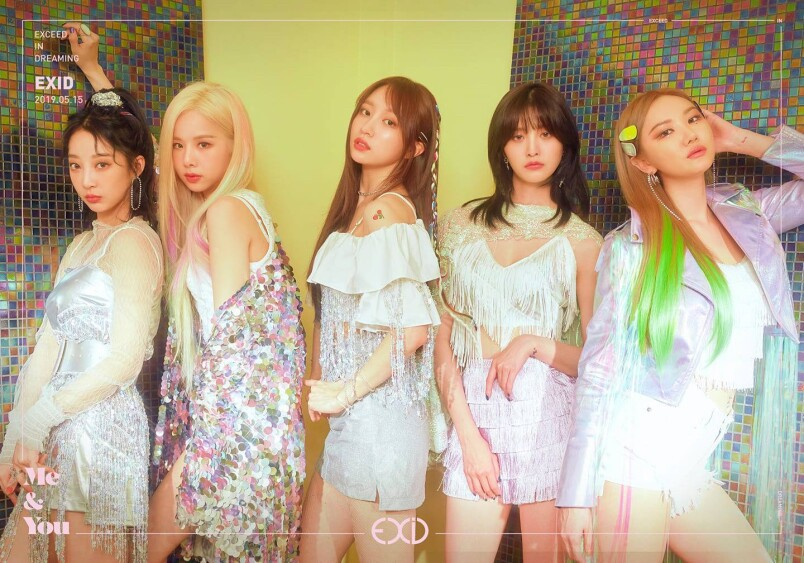people: (600, 86, 765, 563), (157, 80, 281, 563), (465, 80, 580, 563), (41, 104, 151, 563), (326, 73, 420, 563)
